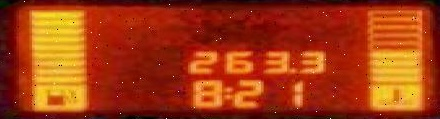-: (286, 67, 297, 72)
1: (284, 77, 305, 107)
2: (183, 48, 217, 73), (232, 77, 260, 107)
3: (297, 48, 323, 73), (261, 48, 287, 72)
6: (219, 48, 253, 73)
8: (188, 77, 219, 107)
X: (222, 85, 230, 99)
